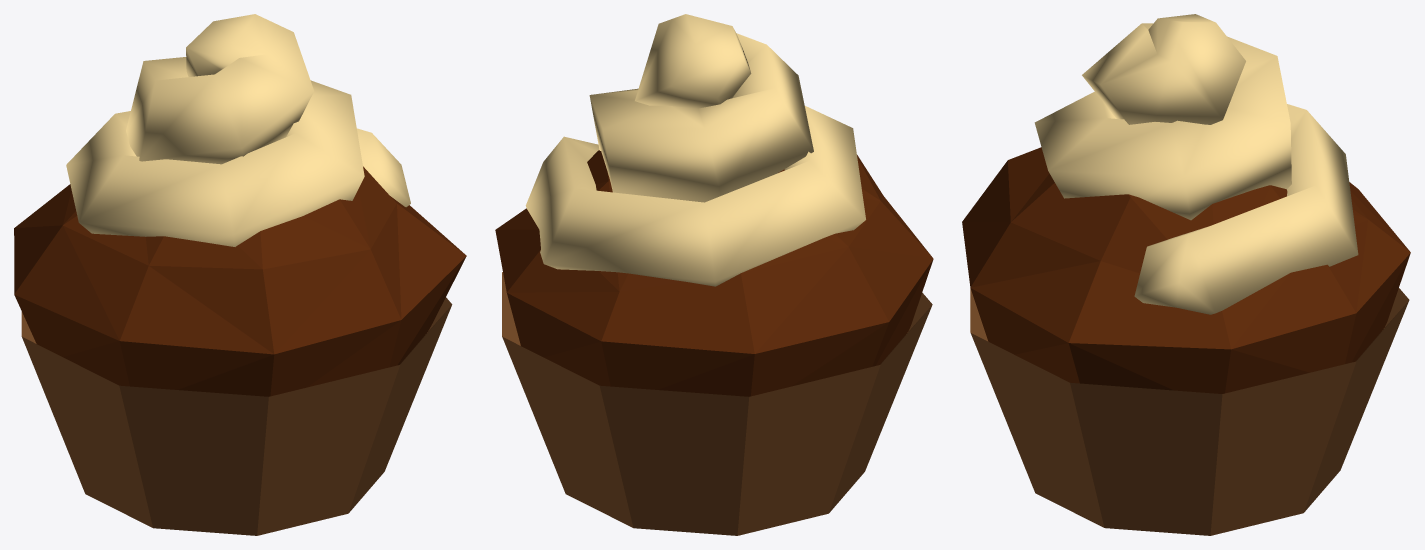
The model's file is cupcake.fbx.
The picture shows the model from 3 angles, left to right: view 1: azimuth 30°, elevation 25°; view 2: azimuth 150°, elevation 25°; view 3: azimuth 270°, elevation 25°; orthographic projection.
Parts seen in each view (by area): view 1: Cylinder; view 2: Cylinder; view 3: Cylinder.
Boxes of the visible parts, left/top/right/bottom form: Cylinder: left=14, top=14, right=466, bottom=535; Cylinder: left=495, top=14, right=933, bottom=535; Cylinder: left=962, top=14, right=1410, bottom=535.
Size of the model in its own units: 0.1227 by 0.136 by 0.1202.
Materials: 1 (1 with a texture image).
